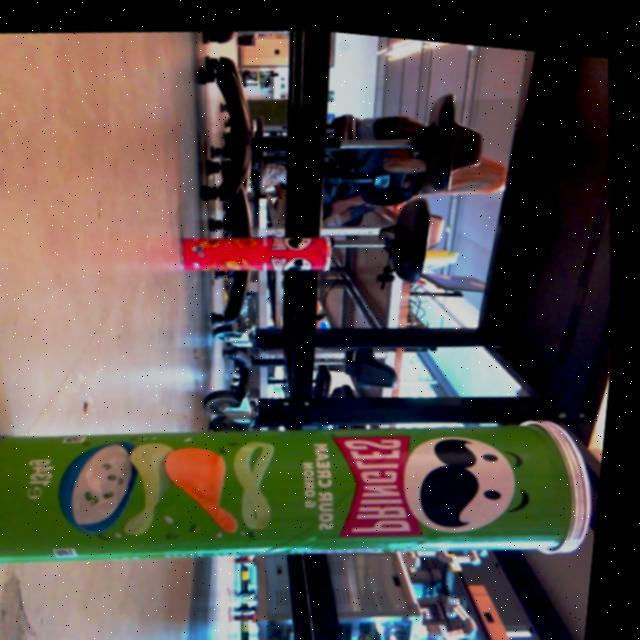greenpringles: (0, 344, 614, 620)
redpringles: (164, 199, 359, 302)
